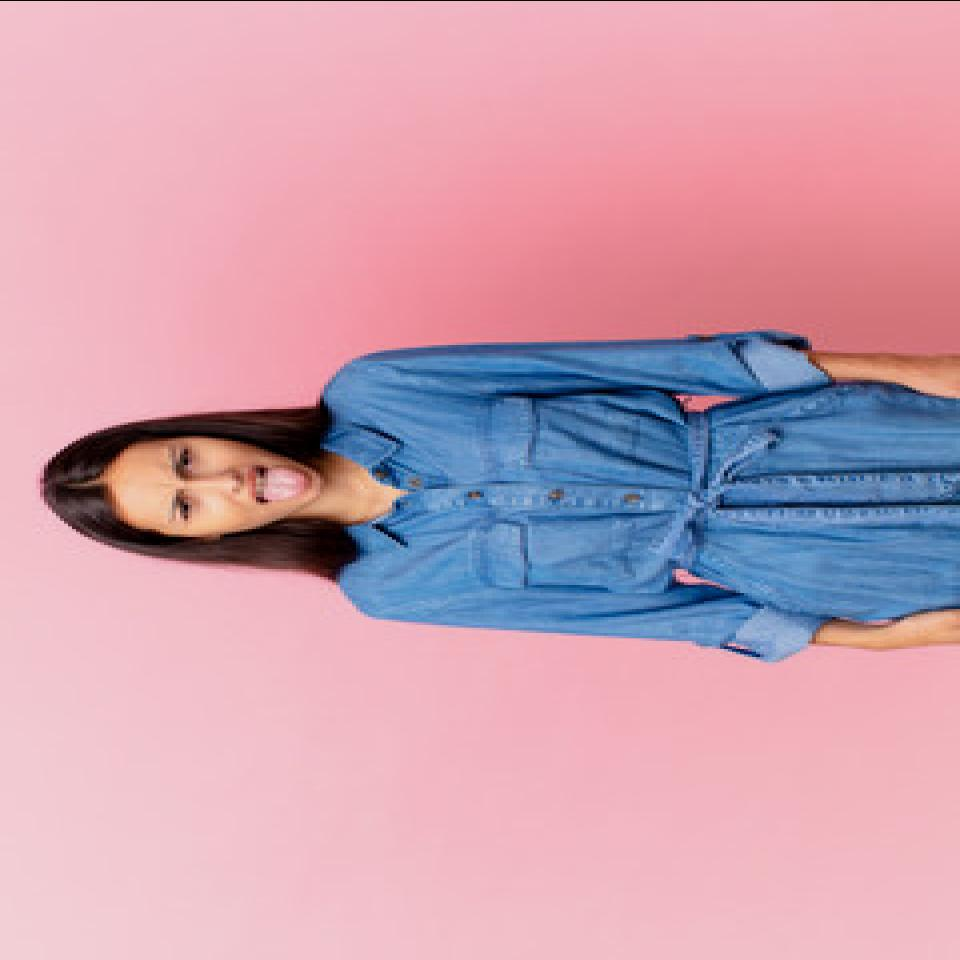Disgust: (106, 422, 324, 544)
